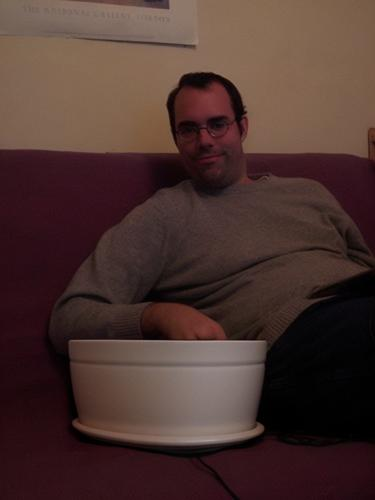person: (49, 74, 372, 444)
person/hand: (162, 304, 242, 372)
person/head: (168, 72, 248, 188)
pottedplant: (67, 338, 266, 451)
sofa: (2, 150, 373, 499)
